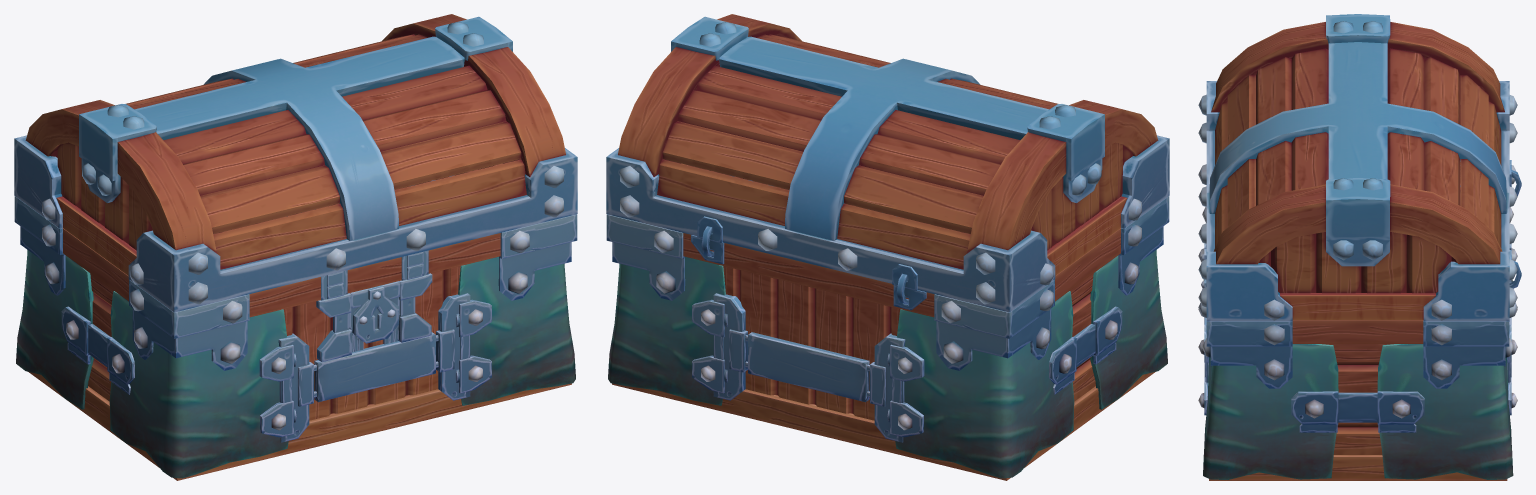
3 views of the same model, side by side, from view 1: azimuth 30°, elevation 25°; view 2: azimuth 150°, elevation 25°; view 3: azimuth 270°, elevation 25° (orthographic). The views are drawn at different scales.
Visible parts, largest first — view 1: Top_05_LP, Cloth_01_LP, Top_01_LP, Top_03_LP, Top_04_LP, Bottom_05_LP, Bottom_03_LP, Bottom_01_LP, Details_01_LP, Bottom_06_LP, Bottom_07_LP, Top_06_LP (+2 smaller); view 2: Top_05_LP, Cloth_01_LP, Top_01_LP, Top_03_LP, Top_04_LP, Bottom_03_LP, Bottom_05_LP, Bottom_06_LP, Bottom_01_LP, Details_01_LP, Top_06_LP, Top_02_LP (+2 smaller); view 3: Cloth_01_LP, Top_05_LP, Top_04_LP, Top_01_LP, Top_06_LP, Top_03_LP, Bottom_01_LP, Details_01_LP, Top_02_LP, Bottom_05_LP, Bottom_04_LP, Bottom_06_LP (+2 smaller).
Part boxes in pixels (x1,y1,x2,y2): Top_05_LP: [126, 34, 526, 269]; Cloth_01_LP: [16, 185, 575, 478]; Top_01_LP: [135, 36, 464, 240]; Top_03_LP: [14, 135, 577, 312]; Top_04_LP: [25, 14, 565, 253]; Bottom_05_LP: [28, 165, 571, 480]; Bottom_03_LP: [259, 209, 491, 442]; Bottom_01_LP: [14, 175, 577, 370]; Details_01_LP: [42, 22, 563, 430]; Bottom_06_LP: [88, 170, 474, 420]; Bottom_07_LP: [316, 250, 432, 362]; Top_06_LP: [51, 142, 506, 275]; Top_05_LP: [657, 34, 1057, 269]; Cloth_01_LP: [608, 185, 1167, 478]; Top_01_LP: [719, 36, 1048, 240]; Top_03_LP: [606, 135, 1169, 312]; Top_04_LP: [618, 14, 1158, 253]; Bottom_03_LP: [692, 209, 924, 442]; Bottom_05_LP: [612, 165, 1155, 480]; Bottom_06_LP: [709, 170, 1095, 420]; Bottom_01_LP: [606, 175, 1169, 370]; Details_01_LP: [620, 22, 1141, 430]; Top_06_LP: [677, 142, 1132, 275]; Top_02_LP: [671, 16, 1104, 202]; Cloth_01_LP: [1203, 279, 1513, 479]; Top_05_LP: [1215, 48, 1501, 247]; Top_04_LP: [1211, 22, 1504, 264]; Top_01_LP: [1209, 42, 1506, 213]; Top_06_LP: [1259, 105, 1460, 319]; Top_03_LP: [1206, 81, 1509, 321]; Bottom_01_LP: [1206, 185, 1509, 388]; Details_01_LP: [1198, 21, 1517, 418]; Top_02_LP: [1326, 14, 1390, 266]; Bottom_05_LP: [1209, 320, 1507, 480]; Bottom_04_LP: [1291, 391, 1424, 432]; Bottom_06_LP: [1322, 162, 1460, 454].
Bounding box in the file's own units: 0.8791 × 0.6139 × 0.6212.
3 materials, 3 textured.
